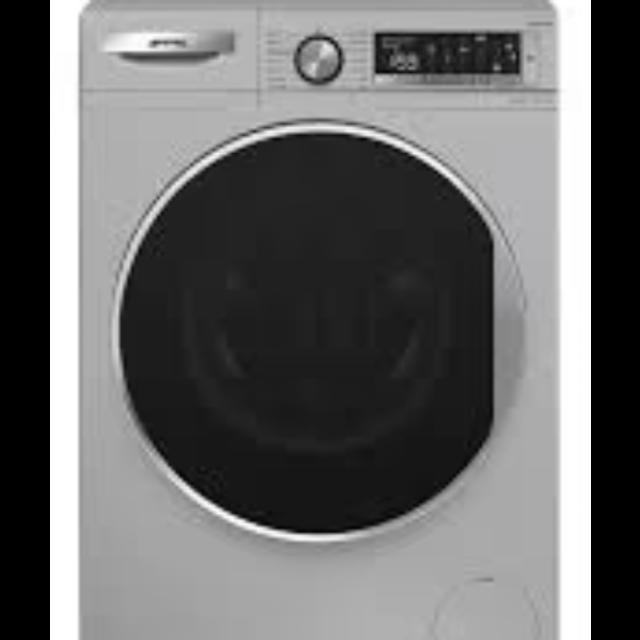Washing-Machine: (78, 1, 560, 640)
